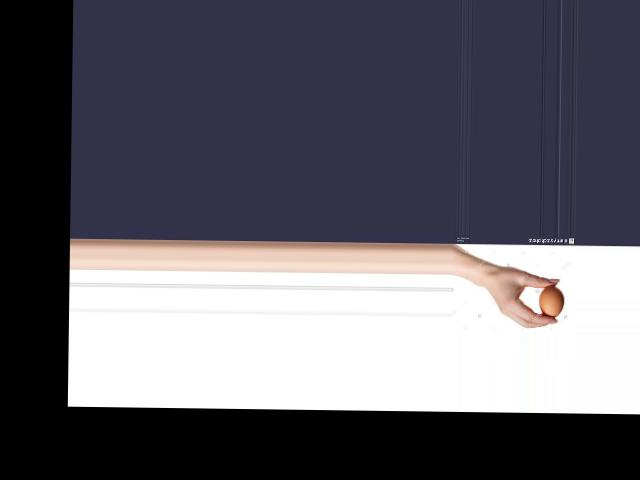egg: (537, 285, 563, 317)
